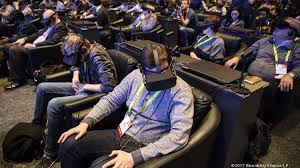oculus: (140, 64, 180, 92), (62, 50, 85, 67), (194, 20, 221, 32), (34, 19, 54, 31)
